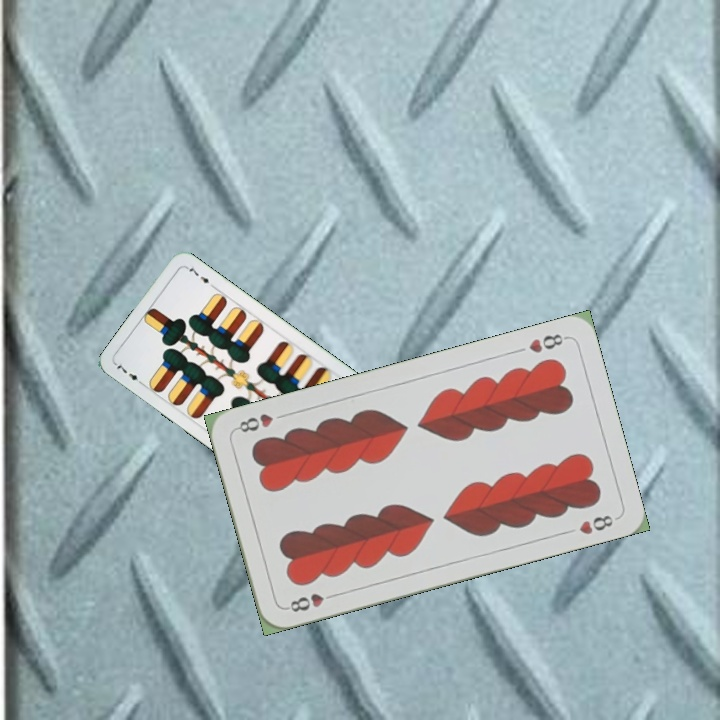E7: (110, 360, 147, 388)
H8: (282, 589, 340, 615), (524, 329, 570, 356)
